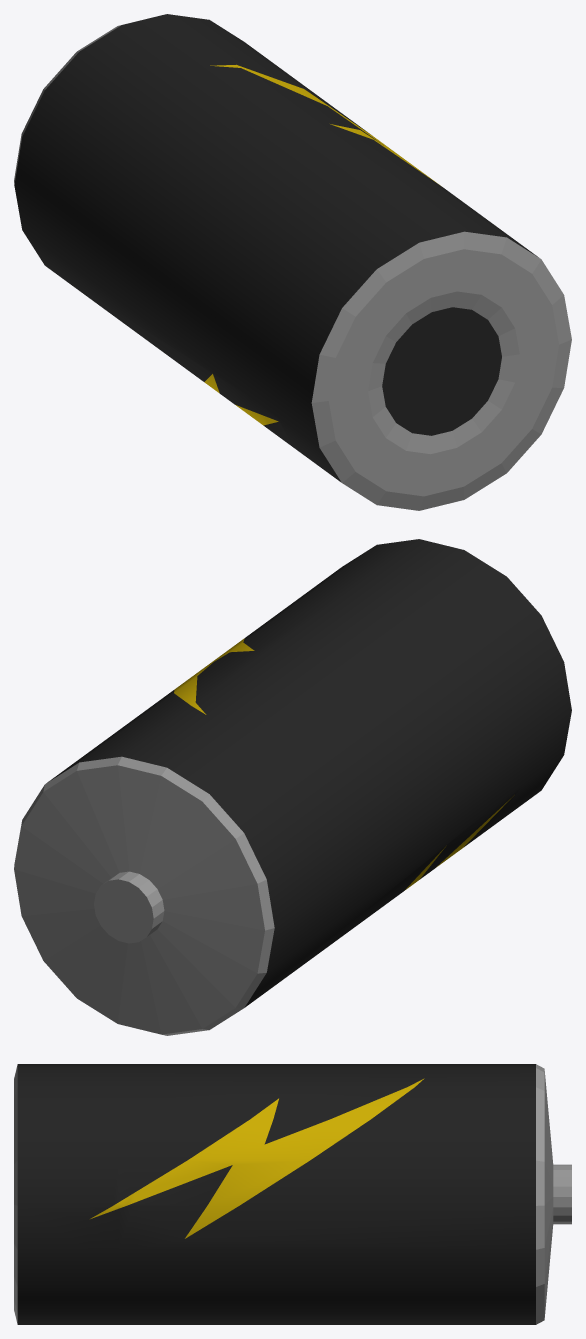
The model's file is powerup_battery.fbx.
3 renders of one model, top to bottom at view 1: azimuth 30°, elevation 25°; view 2: azimuth 150°, elevation 25°; view 3: azimuth 270°, elevation 25°, orthographic. The views are drawn at different scales.
Visible parts, largest first — view 1: Cylinder001; view 2: Cylinder001; view 3: Cylinder001.
Boxes of the visible parts, bbox=[...] form: Cylinder001: bbox=[14, 14, 571, 510]; Cylinder001: bbox=[14, 539, 571, 1035]; Cylinder001: bbox=[14, 1064, 571, 1324].
Bounding box in the file's own units: 140 × 138 × 298.
